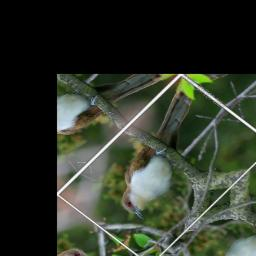Cuckoo: (83, 80, 243, 222)
